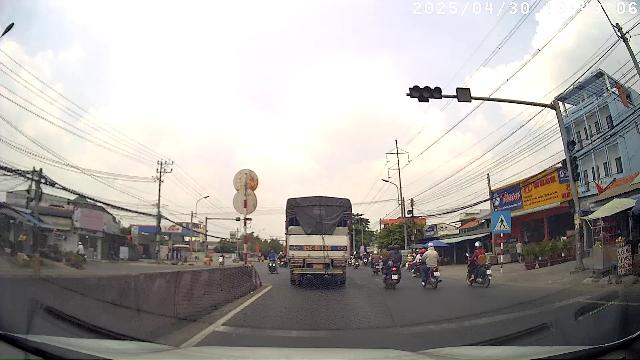423a-duong-nguoi-di-bo-sang-ngang-1: (492, 211, 511, 233)
